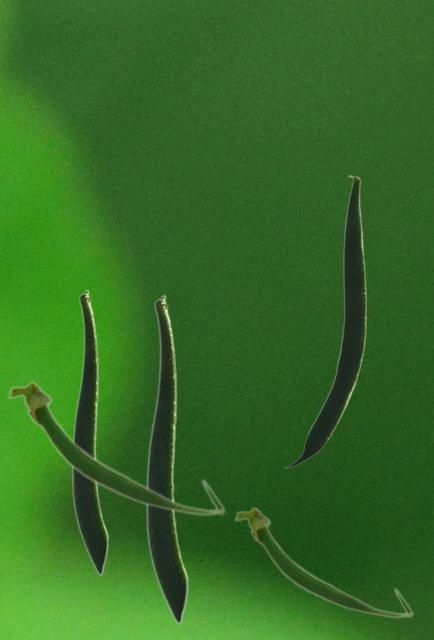french_bean: (6, 379, 225, 516), (284, 175, 365, 467), (233, 506, 413, 618), (145, 294, 188, 624), (71, 289, 108, 575)
